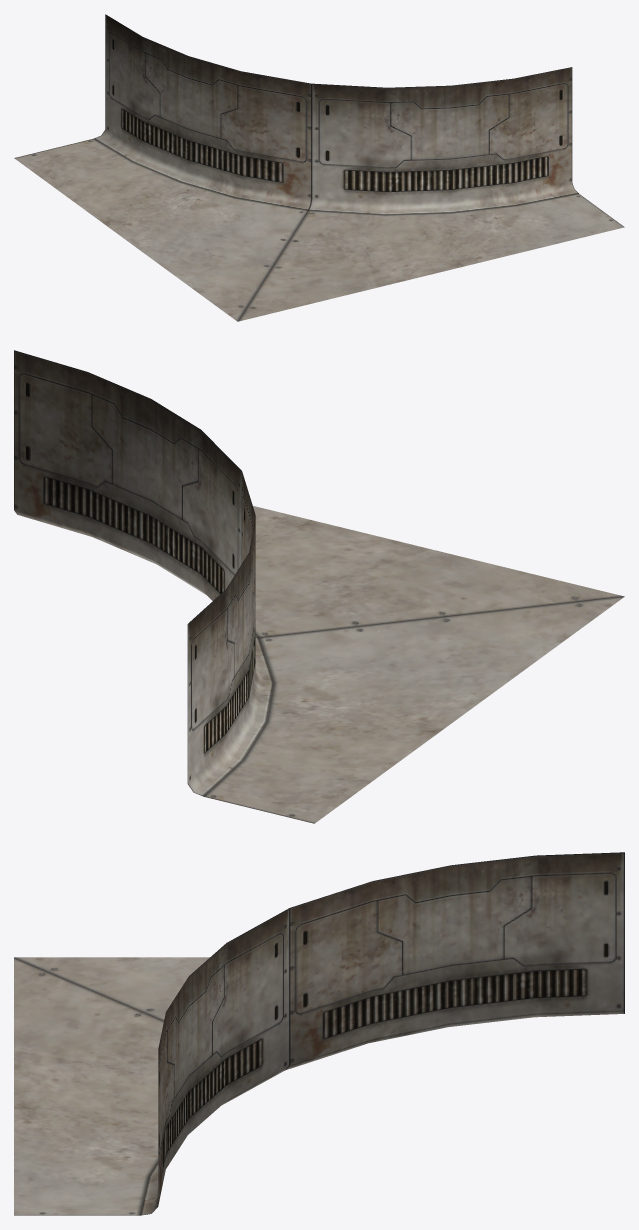
Rendered from lab_ceiling_box_welder_concave.dae.
3 views of the same model, one above another, from view 1: azimuth 30°, elevation 25°; view 2: azimuth 150°, elevation 25°; view 3: azimuth 270°, elevation 25° (orthographic). The views are drawn at different scales.
Visible parts, largest first — view 1: lab_ceiling_box_welder_concave; view 2: lab_ceiling_box_welder_concave; view 3: lab_ceiling_box_welder_concave.
Part boxes in pixels (left/top/right/bottom): lab_ceiling_box_welder_concave: left=14, top=14, right=624, bottom=321; lab_ceiling_box_welder_concave: left=14, top=350, right=624, bottom=823; lab_ceiling_box_welder_concave: left=14, top=852, right=624, bottom=1215.
Size of the model in its own units: 2.5 by 0.75 by 2.5.
